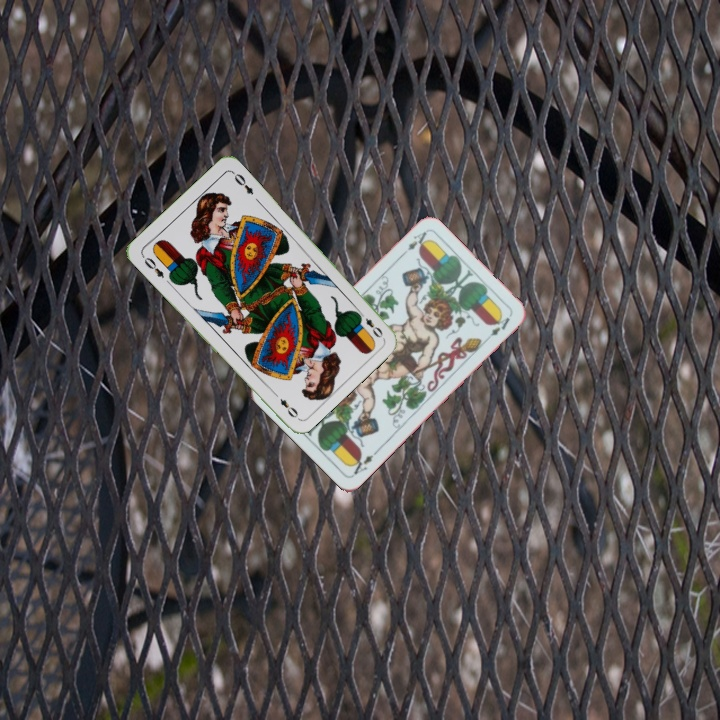EA: (346, 446, 381, 477), (404, 227, 430, 253)
EO: (354, 307, 386, 341), (140, 253, 167, 281)
